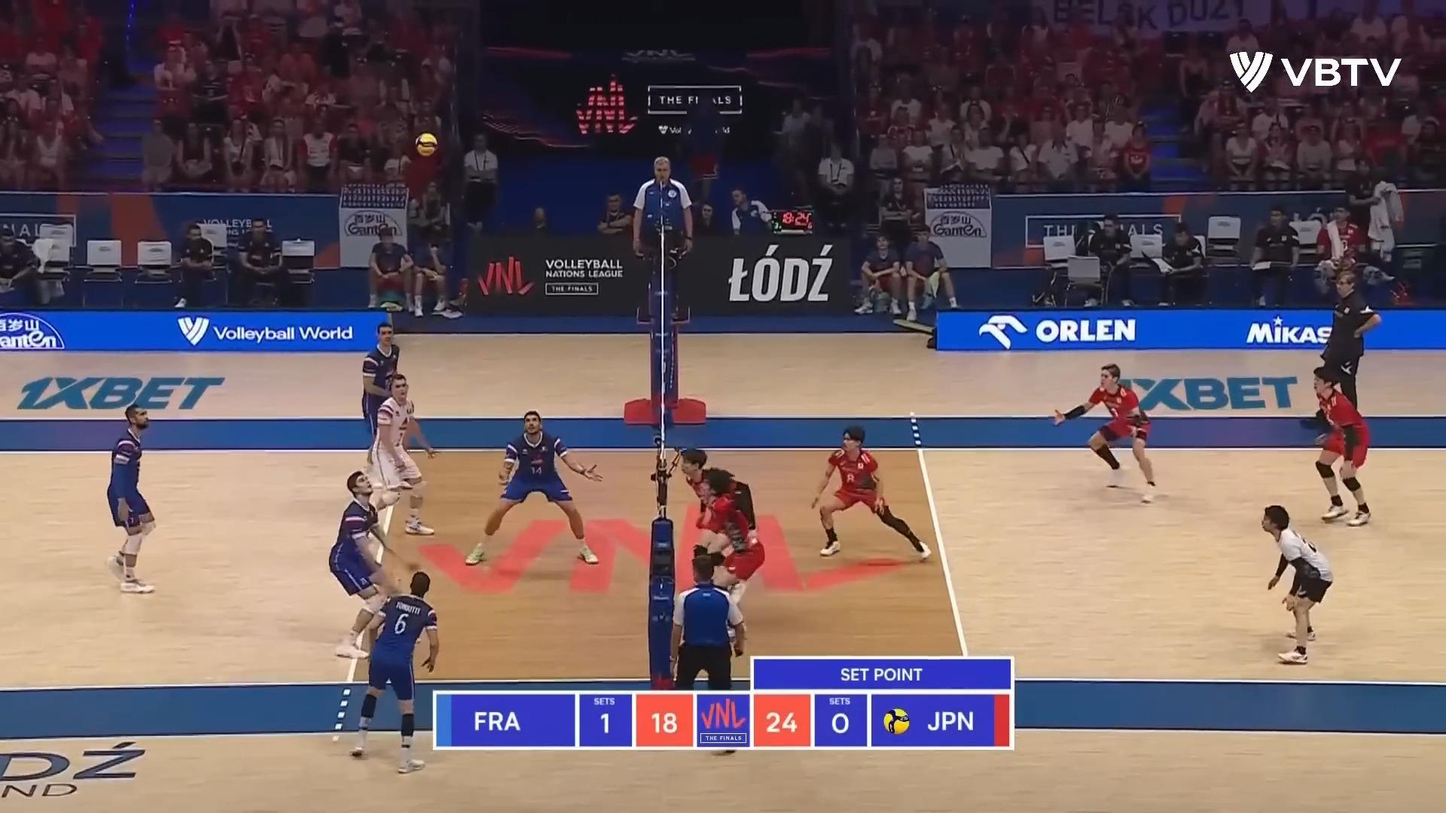ball: (415, 132, 439, 157)
